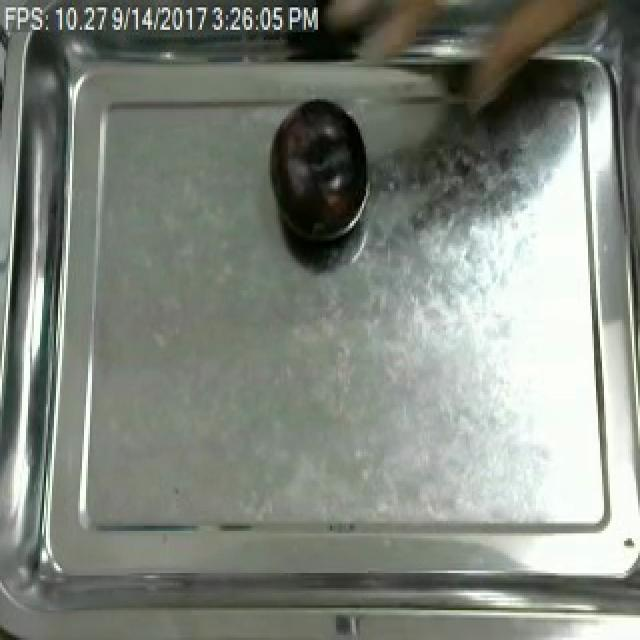Fruit: (266, 97, 374, 253)
